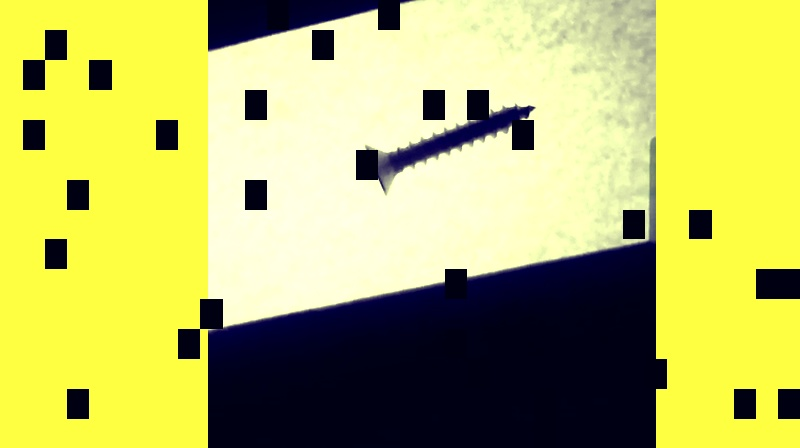S001: (361, 102, 540, 198)
